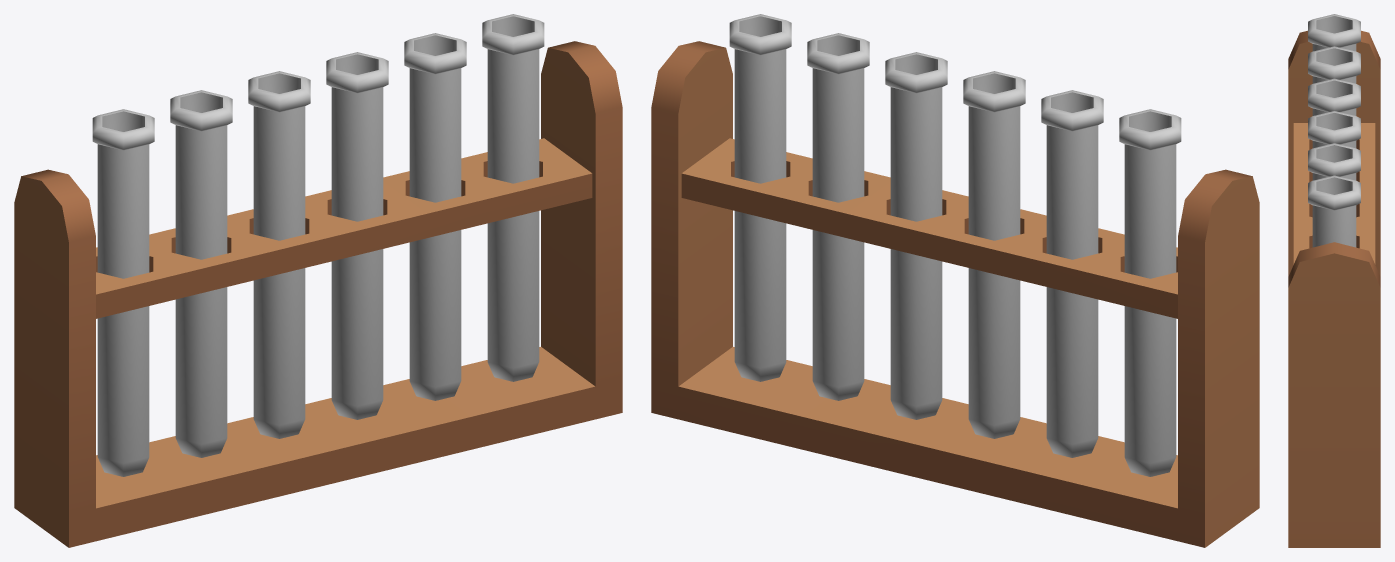
Rendered from CR_sci_Cylinder_001.FBX.
The picture shows the model from 3 angles, left to right: view 1: azimuth 30°, elevation 25°; view 2: azimuth 150°, elevation 25°; view 3: azimuth 270°, elevation 25°; orthographic projection. The views are drawn at different scales.
Parts seen in each view (by area): view 1: CR_sci_Cylinder_001, CR_sci_Cylinder_001_al; view 2: CR_sci_Cylinder_001, CR_sci_Cylinder_001_al; view 3: CR_sci_Cylinder_001, CR_sci_Cylinder_001_al.
Part boxes in pixels (x1,y1,x2,y2): CR_sci_Cylinder_001: (14, 41, 622, 547); CR_sci_Cylinder_001_al: (92, 14, 544, 476); CR_sci_Cylinder_001: (651, 41, 1259, 547); CR_sci_Cylinder_001_al: (729, 14, 1181, 476); CR_sci_Cylinder_001: (1288, 30, 1380, 547); CR_sci_Cylinder_001_al: (1308, 14, 1360, 247).
Size of the model in its own units: 25.09 by 16.73 by 4.27.
